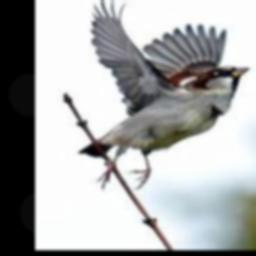Sparrow: (79, 0, 250, 188)
